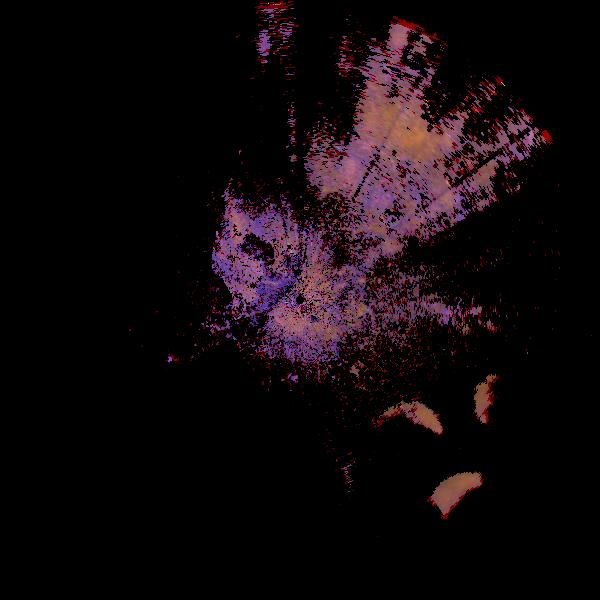roost: (447, 316, 600, 514), (342, 373, 513, 544), (404, 447, 566, 600)
